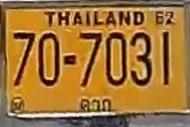0: (105, 31, 126, 85), (38, 32, 59, 85)
1: (162, 31, 169, 85)
3: (130, 31, 150, 85)
7: (79, 32, 101, 86), (12, 32, 34, 86)
TAK: (77, 93, 114, 113)
